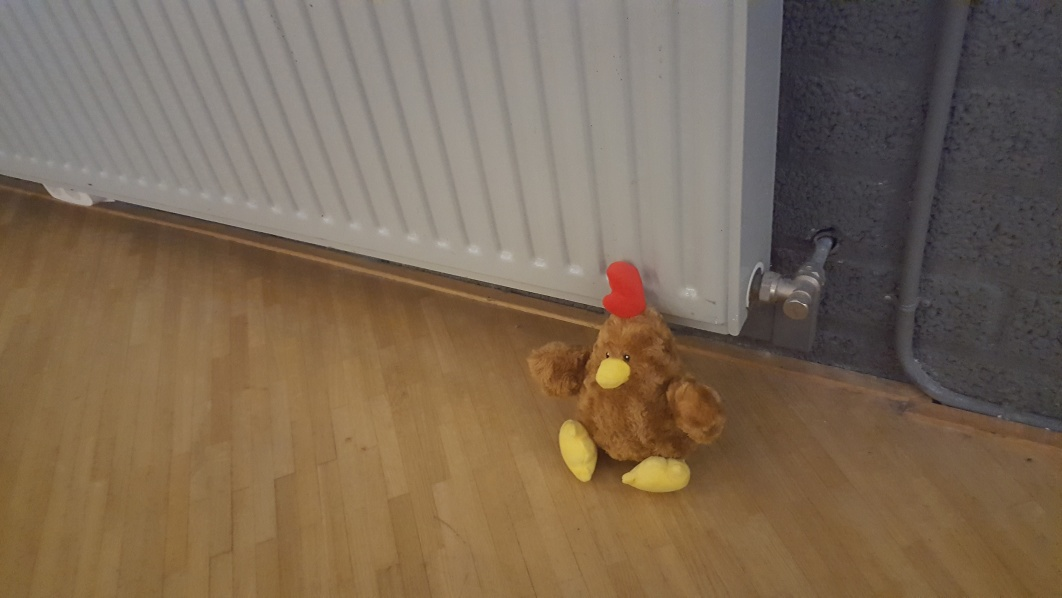chicken: (528, 260, 729, 498)
